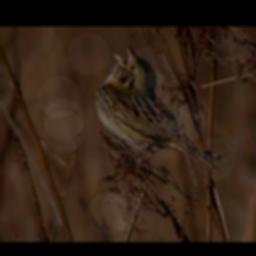Sparrow: (93, 44, 236, 172)
